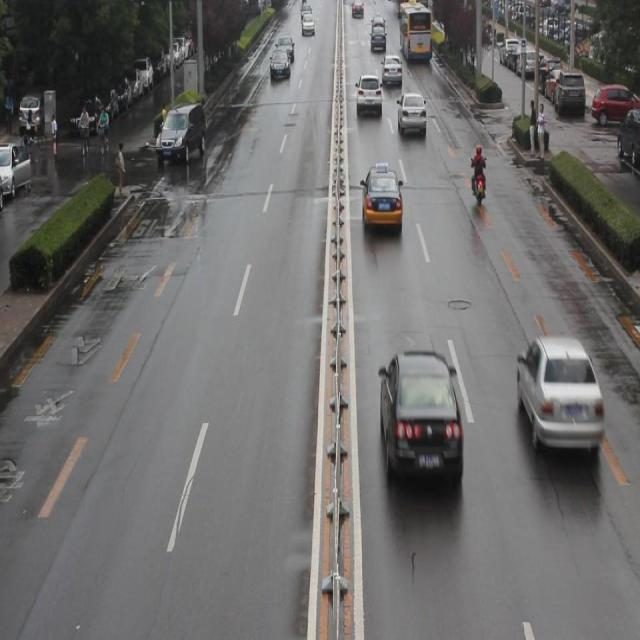car: (377, 352, 462, 492), (515, 336, 602, 463), (358, 164, 402, 234), (395, 93, 426, 137)
truck: (156, 107, 206, 162)
